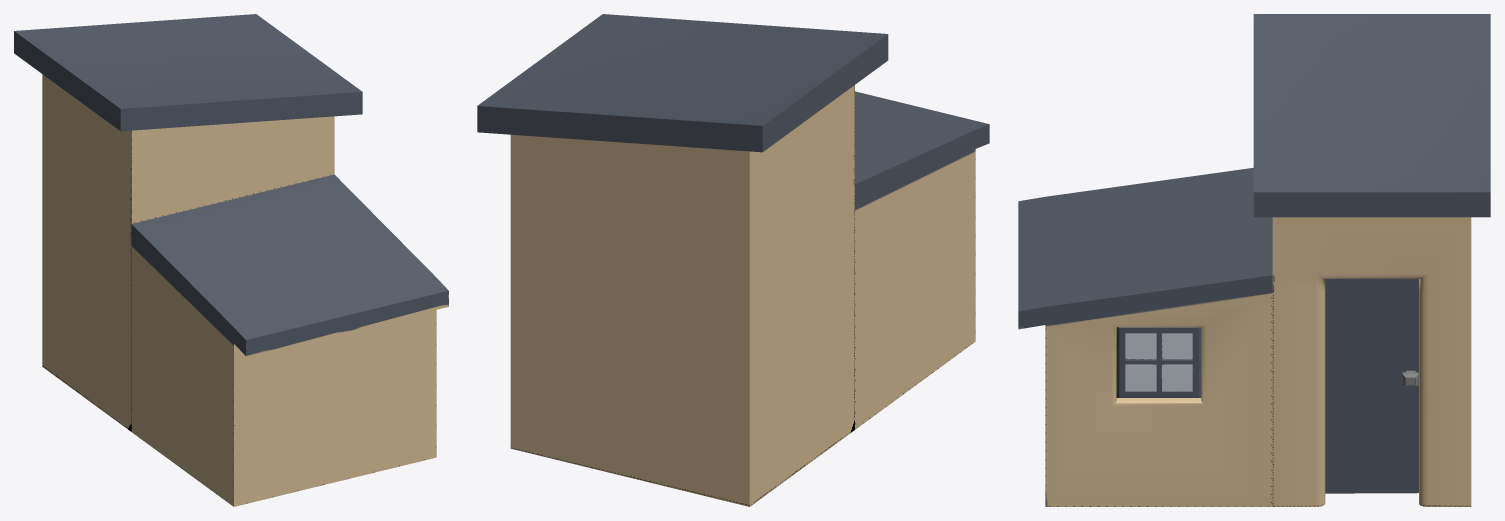
Rendered from maison2.fbx.
3 views of the same model, side by side, from view 1: azimuth 30°, elevation 25°; view 2: azimuth 150°, elevation 25°; view 3: azimuth 270°, elevation 25° (orthographic). The views are drawn at different scales.
Parts seen in each view (by area): view 1: Box001; view 2: Box001; view 3: Box001.
Part boxes in pixels (x1=…): Box001: x1=14, y1=14, x2=448, y2=506; Box001: x1=477, y1=14, x2=989, y2=506; Box001: x1=1018, y1=14, x2=1490, y2=506.
Bounding box in the file's own units: 157 × 207 × 238.
